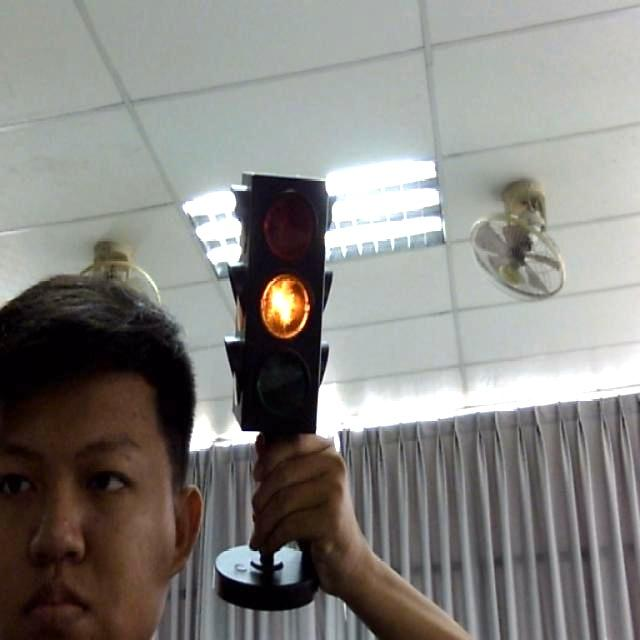Yellow: (225, 168, 326, 438)
